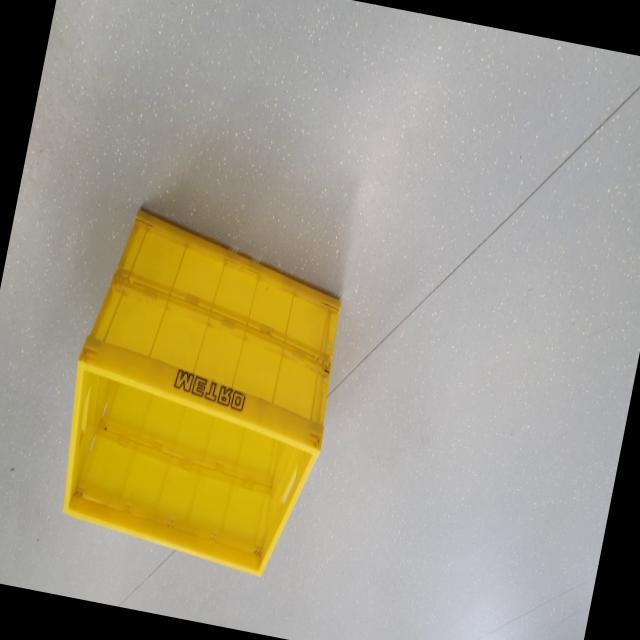box: (32, 194, 372, 600)
